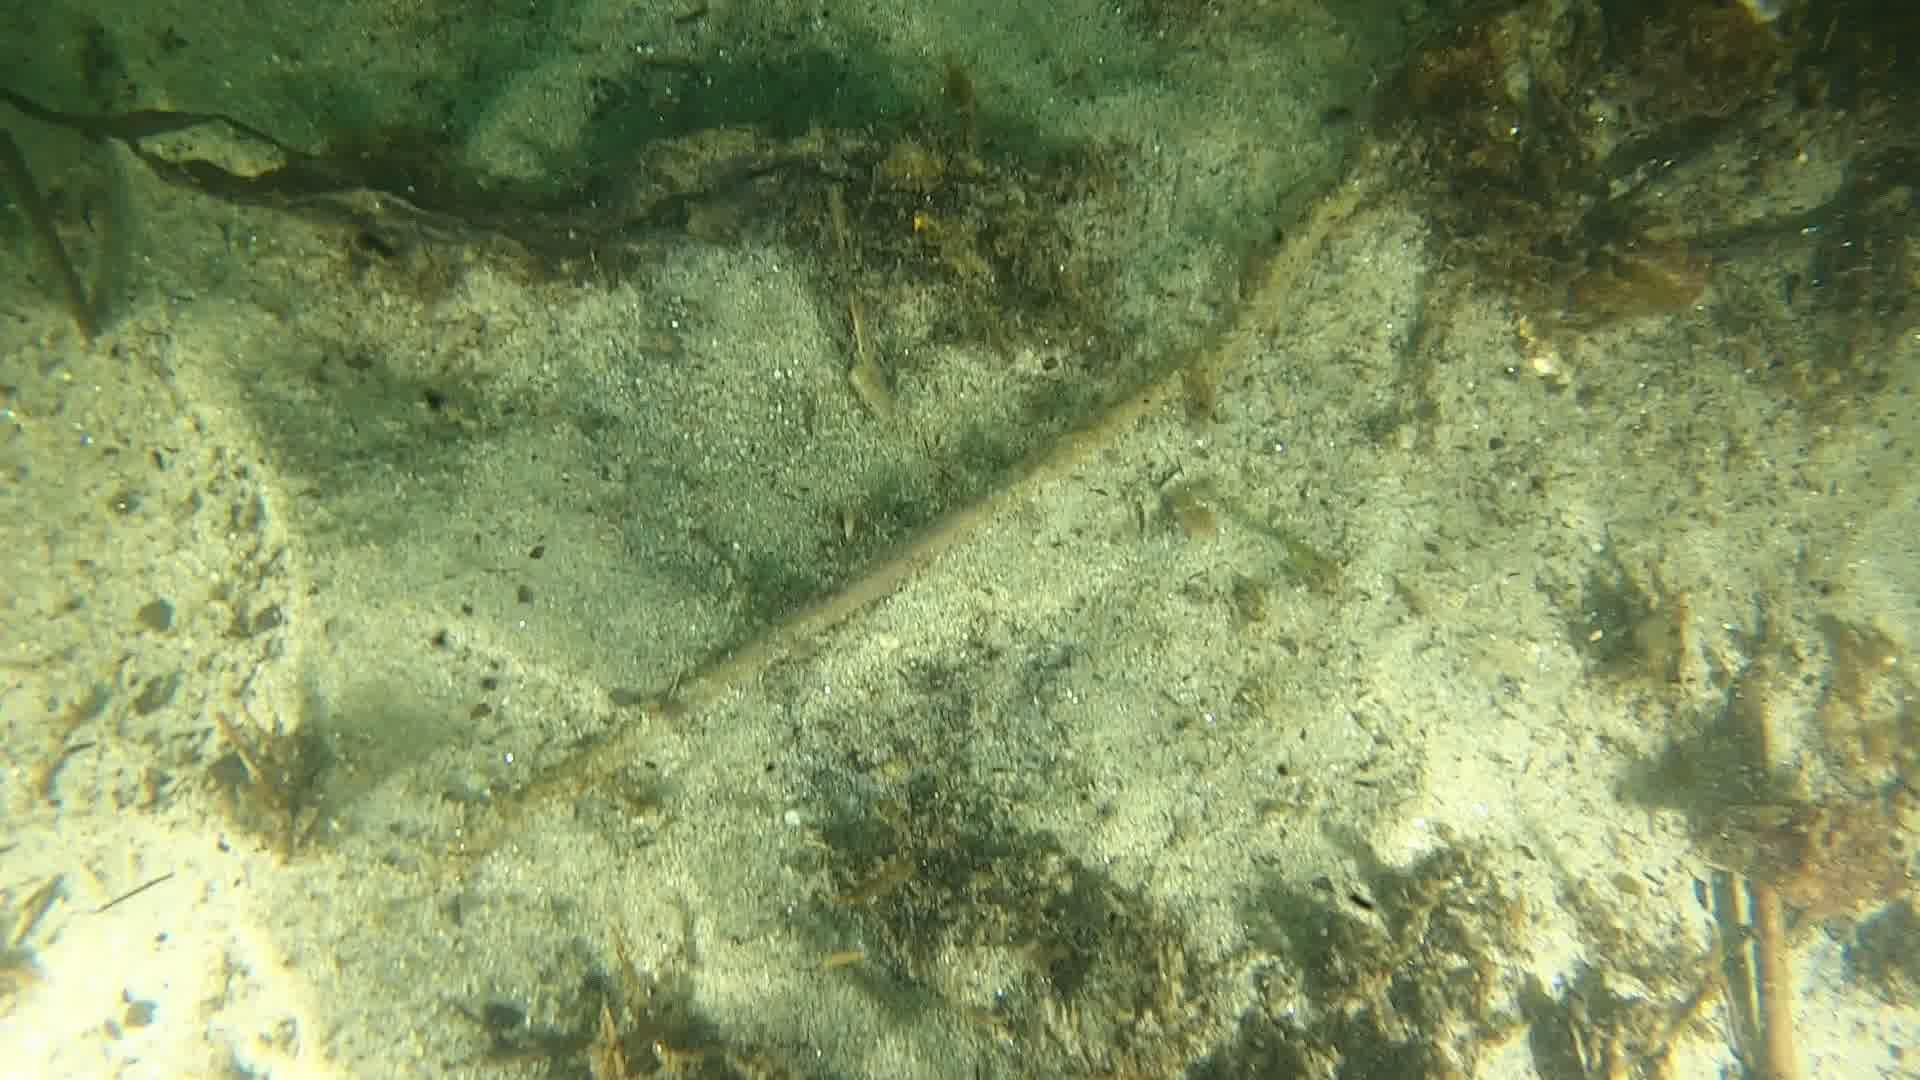rope: (504, 140, 1399, 828)
